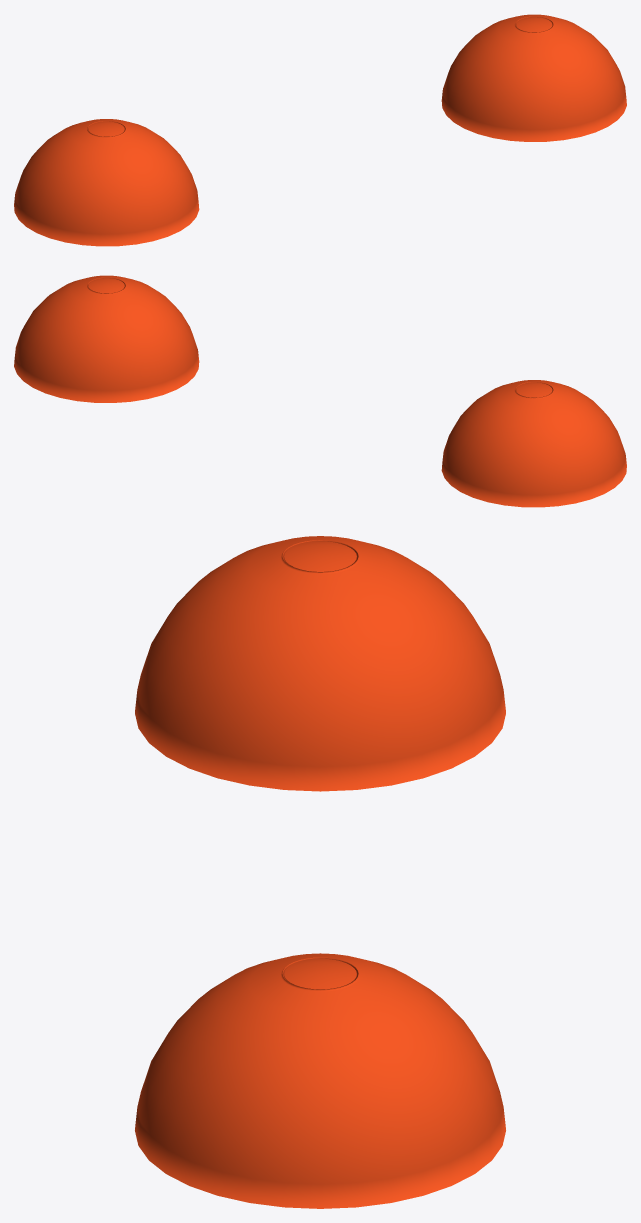
3 views of the same model, one above another, from view 1: azimuth 30°, elevation 25°; view 2: azimuth 150°, elevation 25°; view 3: azimuth 270°, elevation 25° (orthographic). The views are drawn at different scales.
Visible parts, largest first — view 1: Light_shades_breakfast_room_Interior.010; view 2: Light_shades_breakfast_room_Interior.010; view 3: Light_shades_breakfast_room_Interior.010.
Boxes of the visible parts, box(x1,y1,x2,y2) form: Light_shades_breakfast_room_Interior.010: box(14, 14, 626, 246); Light_shades_breakfast_room_Interior.010: box(14, 275, 626, 507); Light_shades_breakfast_room_Interior.010: box(135, 536, 505, 1208).
Bounding box in the file's own units: 432 × 55.08 × 118.
